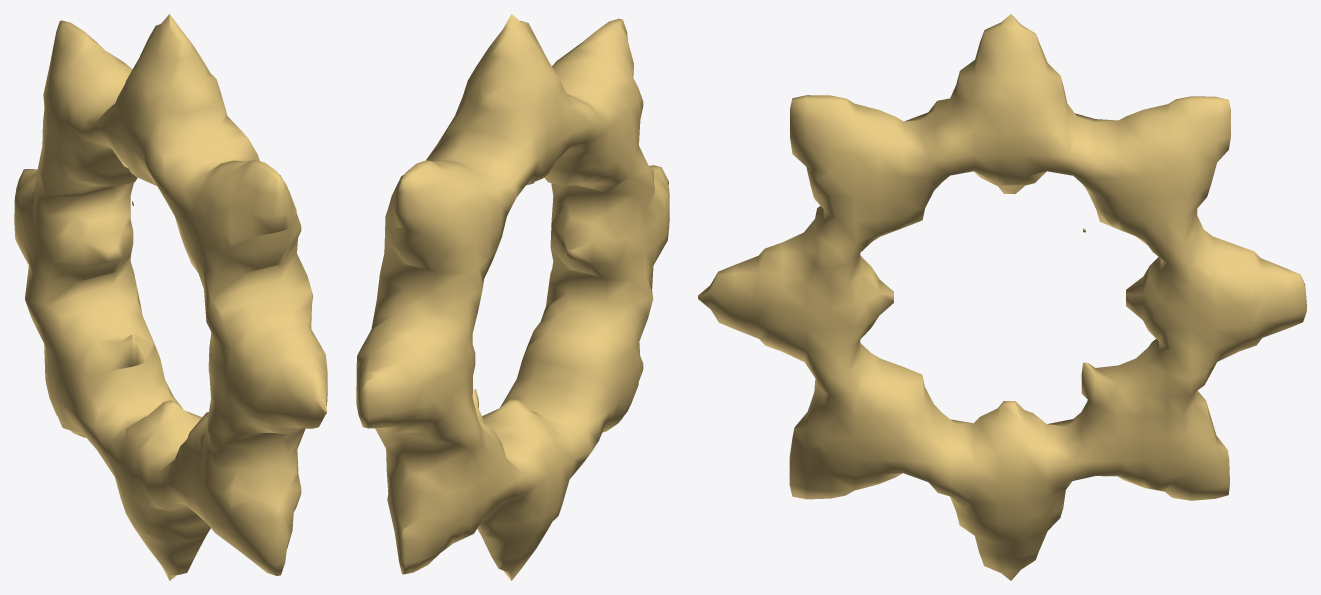
Rendered from creature_3.glb.
3 views of the same model, side by side, from view 1: azimuth 30°, elevation 25°; view 2: azimuth 150°, elevation 25°; view 3: azimuth 270°, elevation 25° (orthographic).
Parts seen in each view (by area): view 1: swordfish.001; view 2: swordfish.001; view 3: swordfish.001.
Part boxes in pixels (x1,y1,x2,y2): swordfish.001: (14,14,327,580); swordfish.001: (356,14,669,580); swordfish.001: (698,14,1306,580).
Size of the model in its own units: 1.22 by 6.04 by 5.88.
